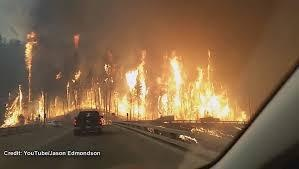fire: (4, 29, 39, 123)
